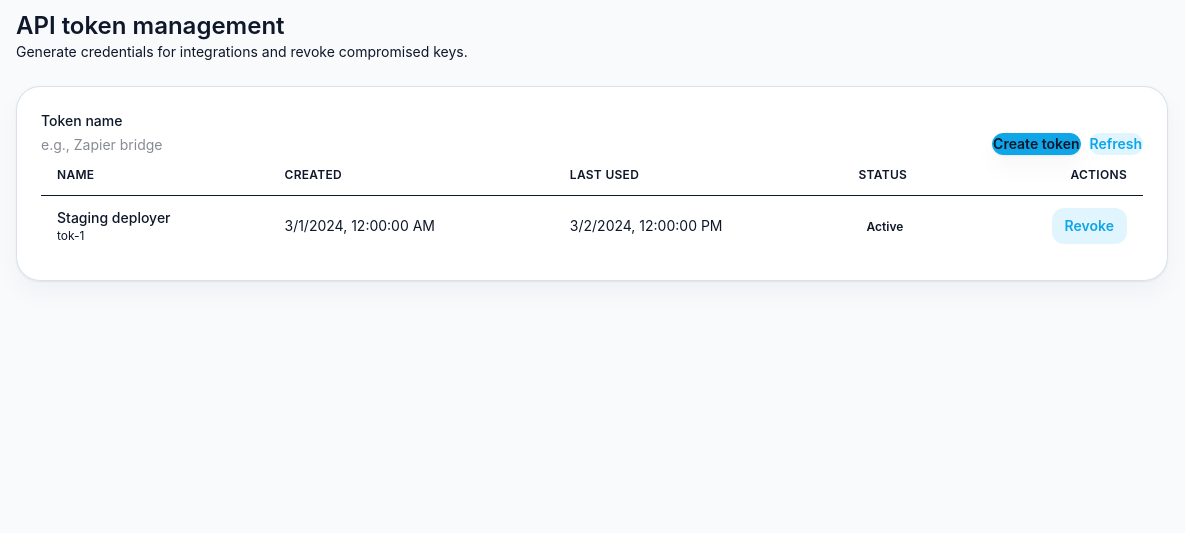
it: admin api tokens page › creates a token and shows a single-use preview while keeping listings secret
This screenshot has width=1185, height=533.
Type "Integration key" into the field labelled "Token name" at (150, 145), box [41,135,259,155]
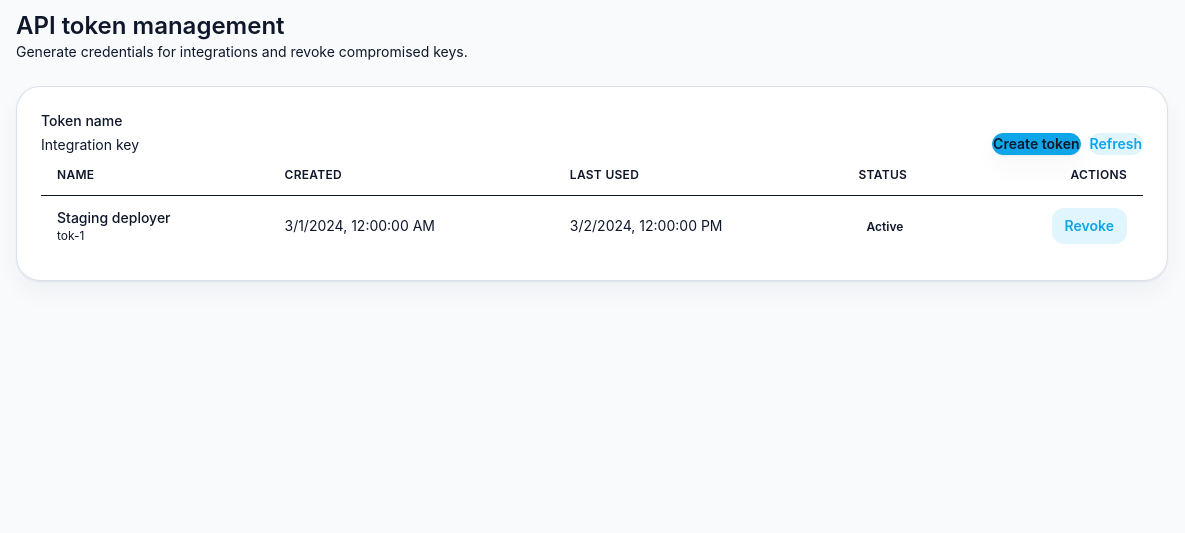
Click the button "Create token" at (1036, 144), box [992,133,1081,155]
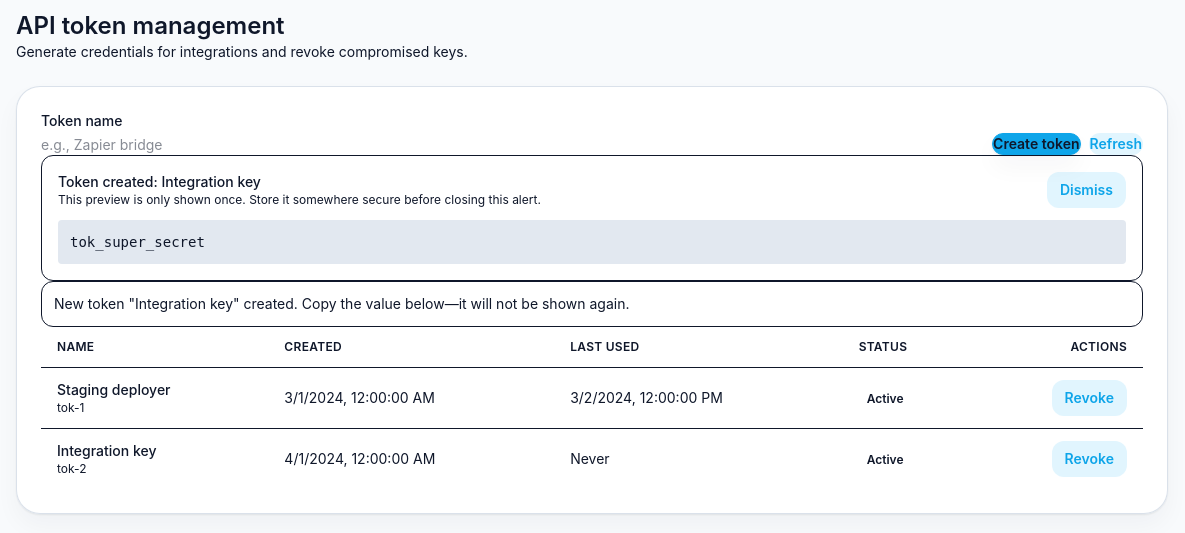
expect the text "Token created: Integration key" is shown: met, box [58,173,261,190]
expect the text "tok_super_secret" is shown: met, box [58,220,1126,264]
